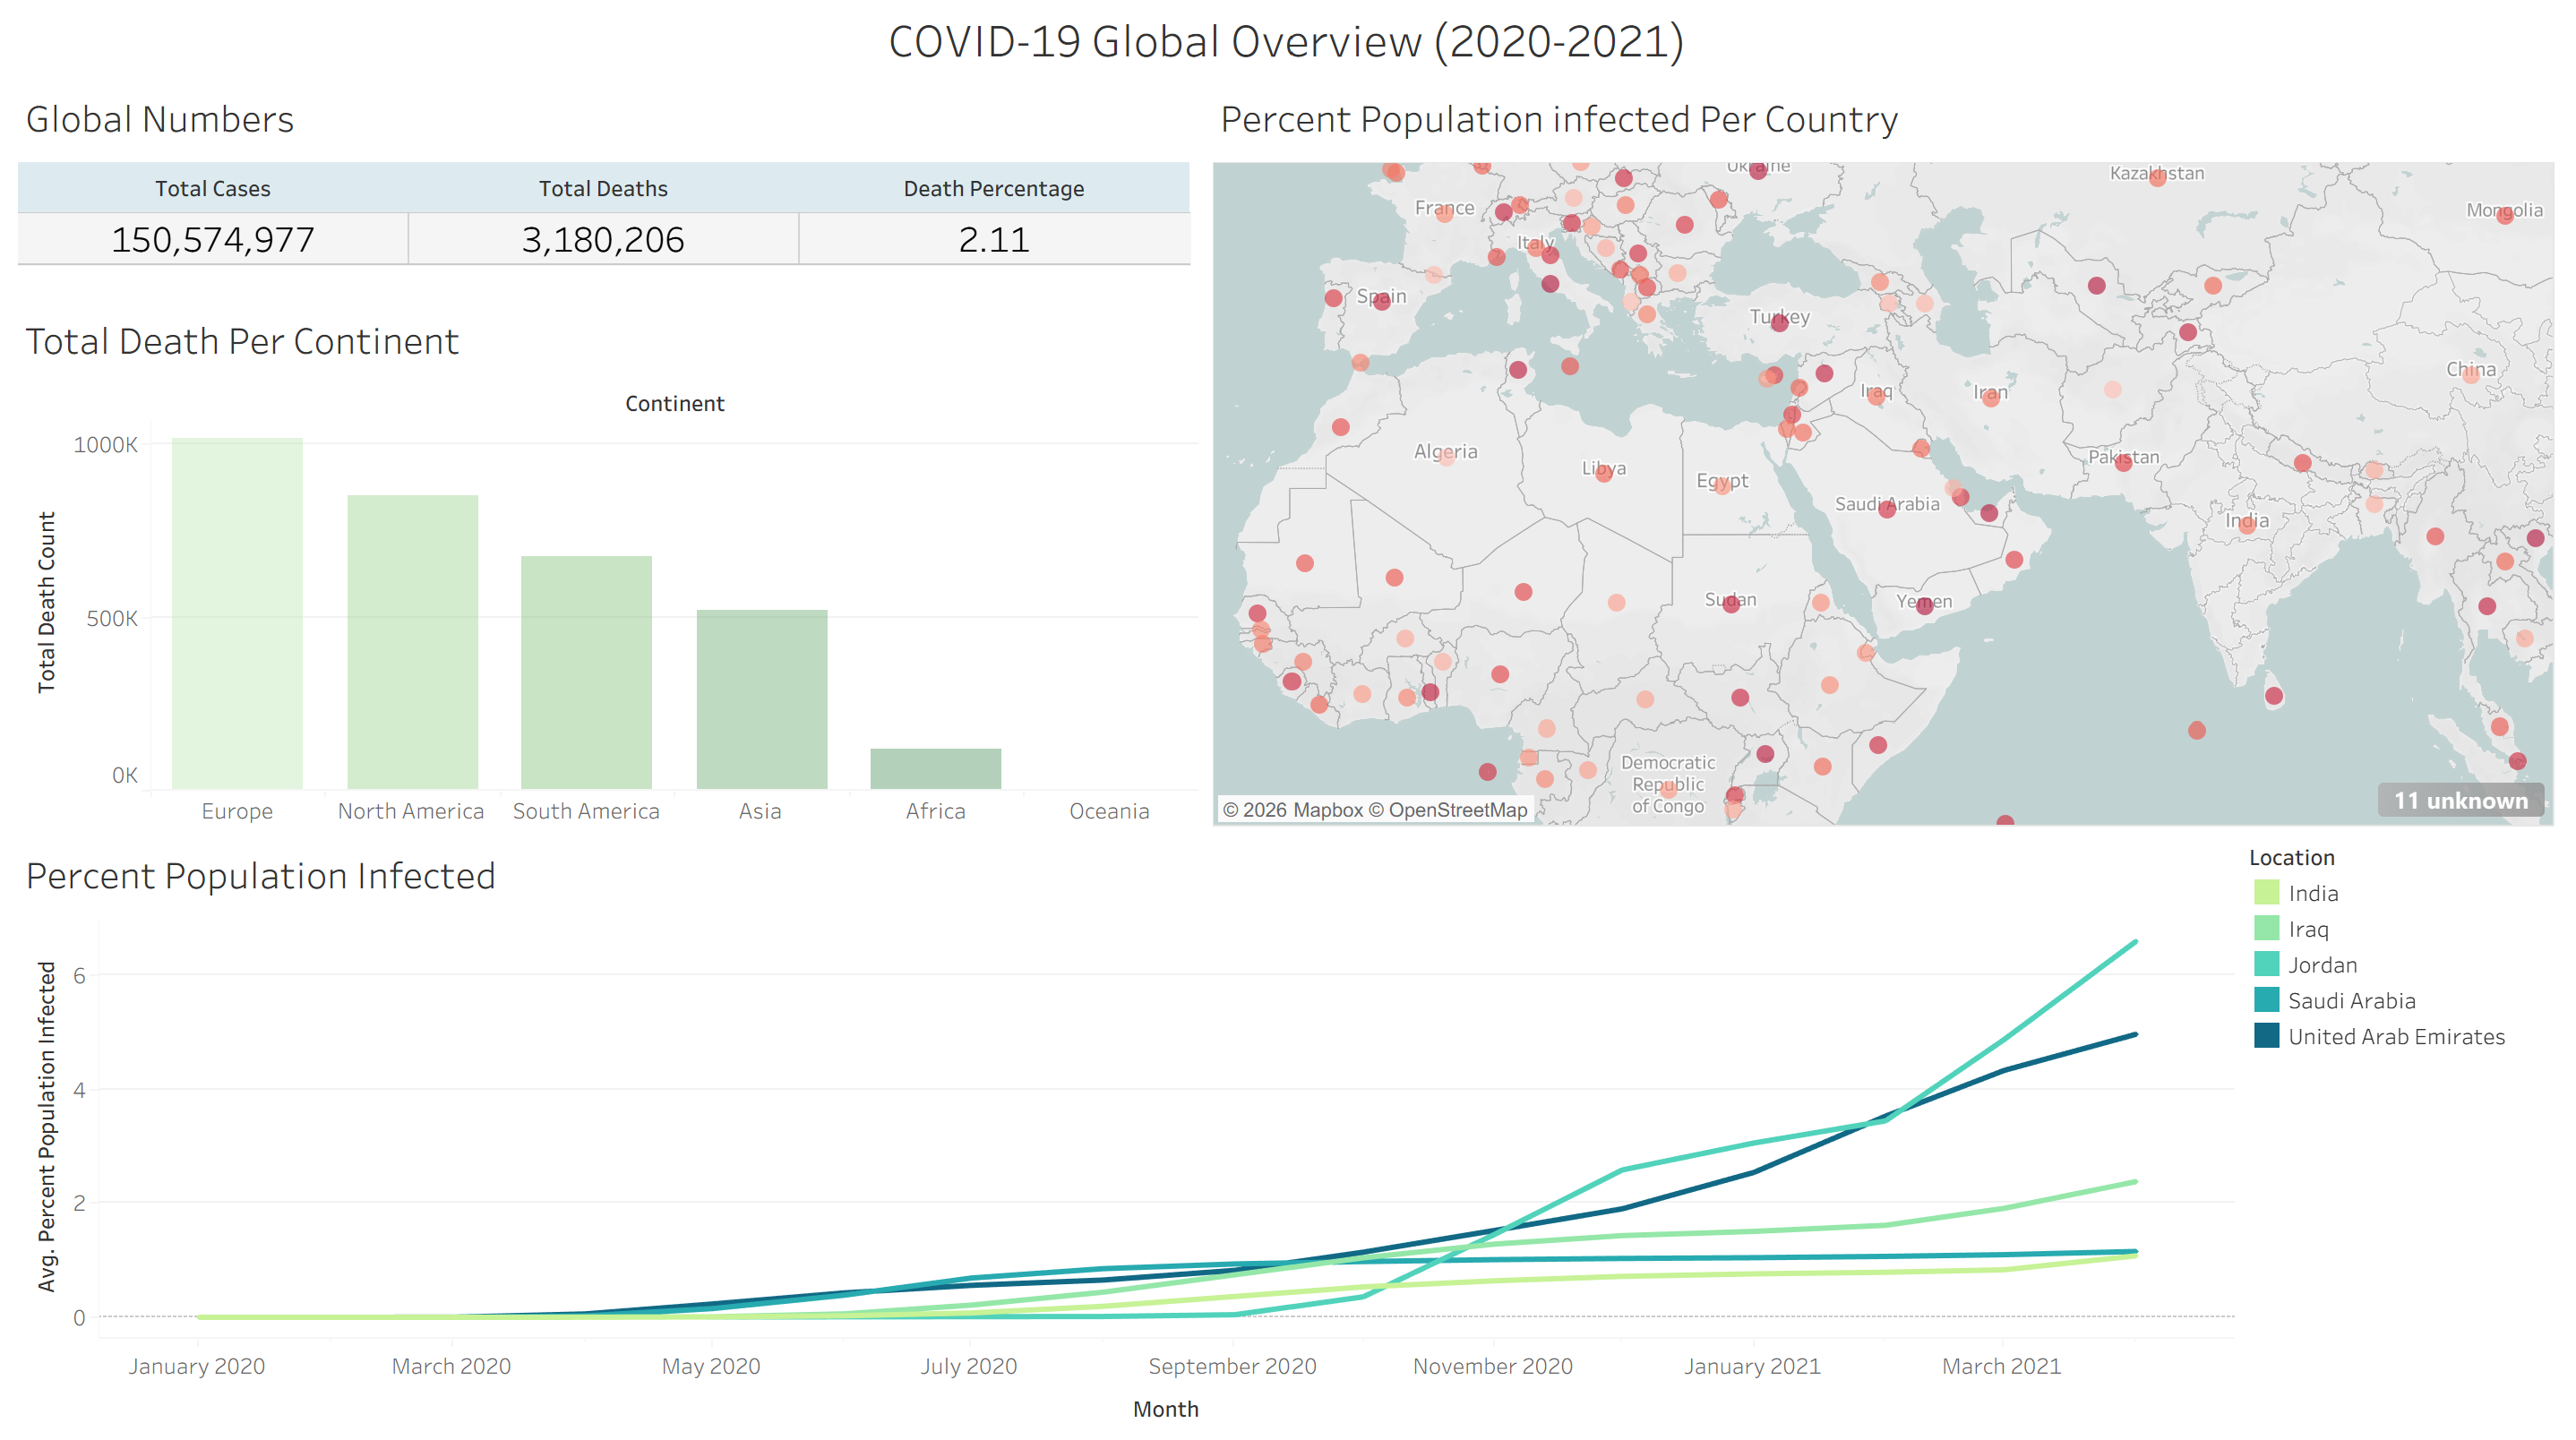

This screenshot's page, from the dashboard's own definition file:
{"tool":"tableau","page":{"name":"Dashboard 1","canvas":[1000,1000],"units":"permille","ordinal":0},"visuals":[{"type":"title","box":[7,11.8,985.9,62.1]},{"type":"worksheet","title":"Sheet 1","mark":"Automatic","box":[7,74,462,146.4]},{"type":"worksheet","title":"Sheet 3","mark":"Automatic","box":[469.1,74,523.9,499.9]},{"type":"worksheet","title":"Sheet 2","mark":"Automatic","rows":["TotalDeathCount"],"cols":["location"],"box":[7,220.4,462,353.5]},{"type":"worksheet","title":"Sheet 4","mark":"Automatic","rows":["PercentPopulationInfected"],"cols":["date"],"box":[7,573.8,862.2,414.3]},{"type":"legend","title":"Sheet 4","param":"[federated.1nmnkzi1y2mr5p15i6yq41pgx13u].[none:Location:nk]","box":[869.3,573.8,123.7,414.3]}]}

Visuals, with their boxes on the dashboard's canvas, which has no fixed pixel size, in thousandths of its width and height (x1, y1, x2, y2). These are canvas units, not pixel positions in the 2576x1440 screenshot, which may show the page scaled, cropped or inside an application window:
title: [left=7, top=12, right=993, bottom=74]
"Sheet 1" worksheet: [left=7, top=74, right=469, bottom=220]
"Sheet 3" worksheet: [left=469, top=74, right=993, bottom=574]
"Sheet 2" worksheet: [left=7, top=220, right=469, bottom=574]
"Sheet 4" worksheet: [left=7, top=574, right=869, bottom=988]
"Sheet 4" legend: [left=869, top=574, right=993, bottom=988]
